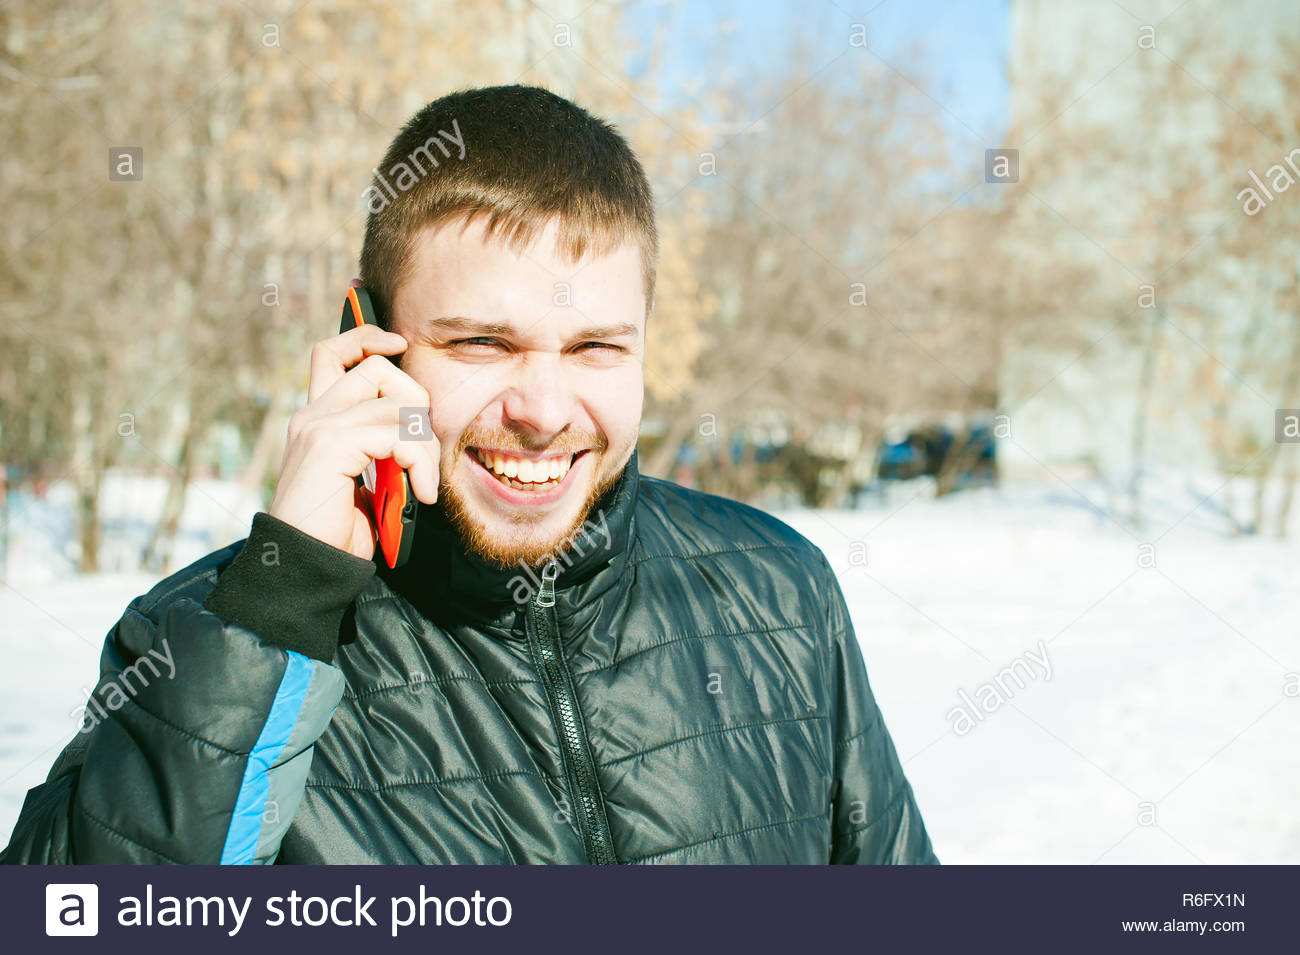phone: (337, 286, 417, 569)
talk: (266, 276, 647, 603)
